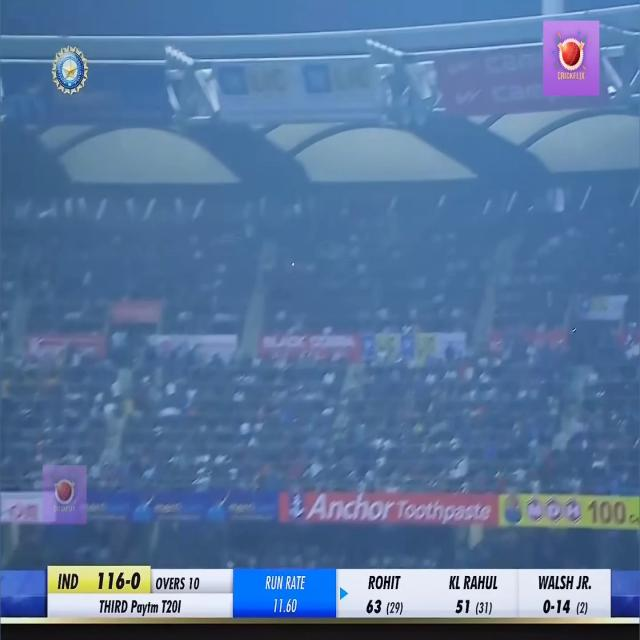fully_visible: (128, 597, 163, 620)
